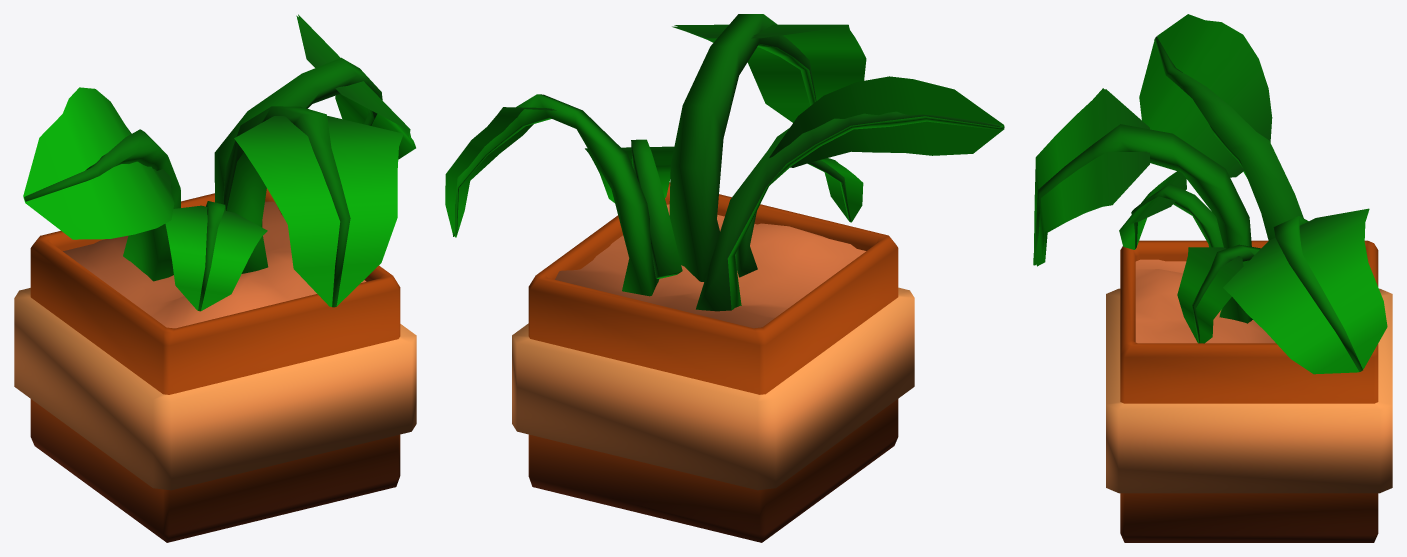
Rendered from PlantaPequena.fbx.
3 renders of one model, left to right at view 1: azimuth 30°, elevation 25°; view 2: azimuth 150°, elevation 25°; view 3: azimuth 270°, elevation 25°, orthographic. The views are drawn at different scales.
Visible parts, largest first — view 1: PlantaPequena; view 2: PlantaPequena; view 3: PlantaPequena.
Boxes of the visible parts, x1,y1,x2,y2 form: PlantaPequena: [14, 14, 416, 542]; PlantaPequena: [445, 14, 1004, 542]; PlantaPequena: [1033, 14, 1392, 542].
Bounding box in the file's own units: 96.98 × 83.57 × 69.11.
Materials: 1 (1 with a texture image).
